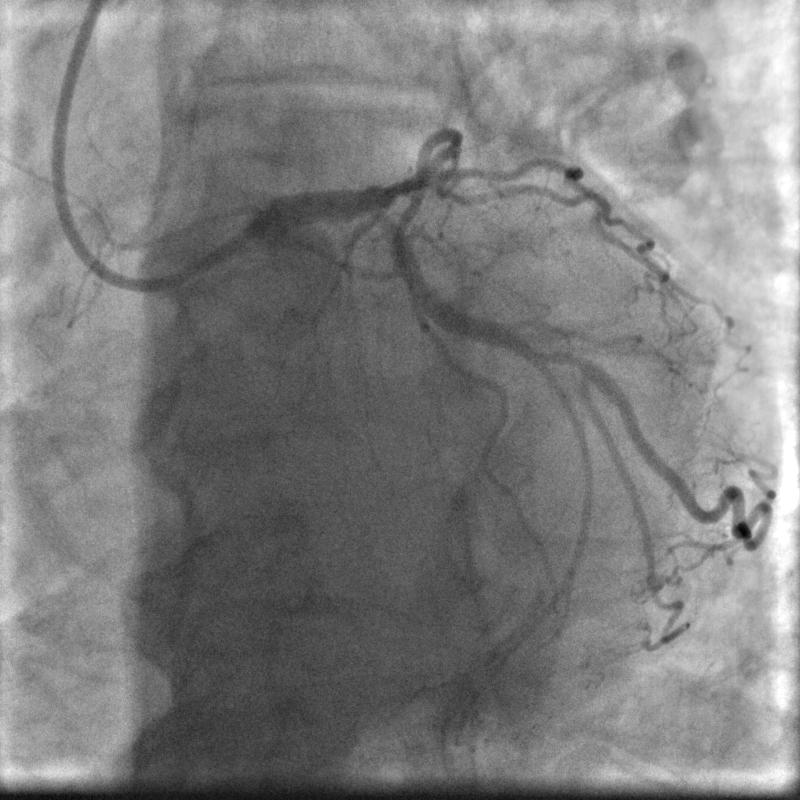Stenosis: (539, 346, 587, 370)
